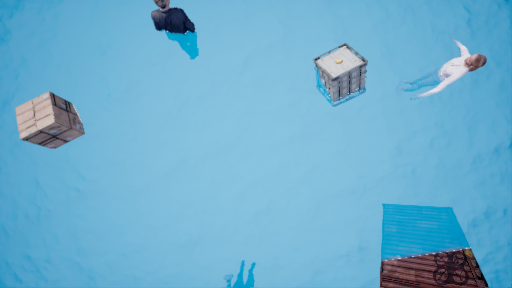person: (414, 43, 487, 115), (152, 1, 210, 65)
